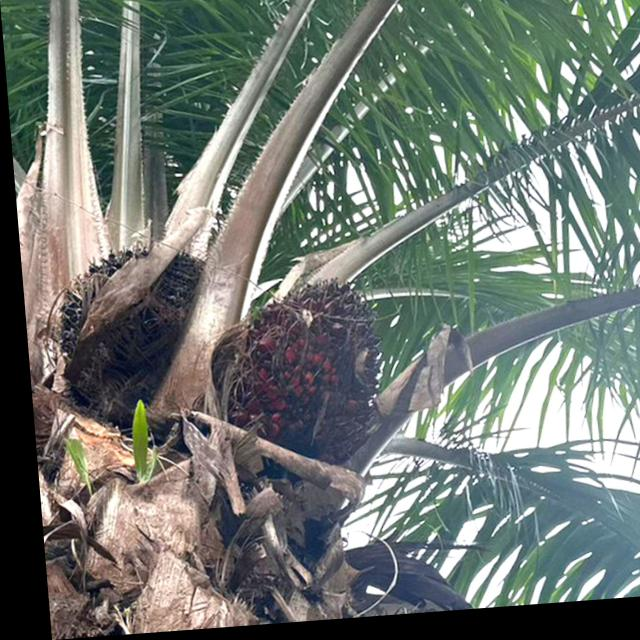ripe: (196, 272, 390, 466), (51, 240, 214, 419)
